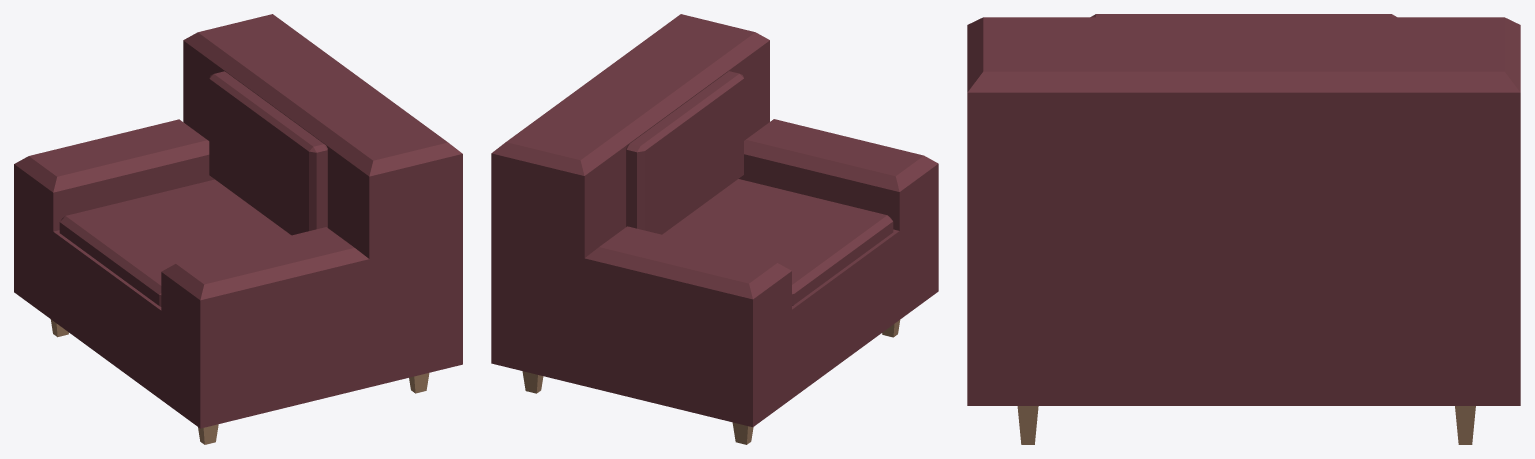
The model's file is Sala_Sillon_08.fbx.
The picture shows the model from 3 angles, left to right: view 1: azimuth 30°, elevation 25°; view 2: azimuth 150°, elevation 25°; view 3: azimuth 270°, elevation 25°; orthographic projection. The views are drawn at different scales.
Visible parts, largest first — view 1: sillon; view 2: sillon; view 3: sillon.
Boxes of the visible parts, x1,y1,x2,y2 form: sillon: (14, 14, 462, 444); sillon: (491, 14, 938, 444); sillon: (967, 14, 1520, 444).
Bounding box in the file's own units: 54.52 × 50.74 × 67.
Materials: 2 (2 with a texture image).
